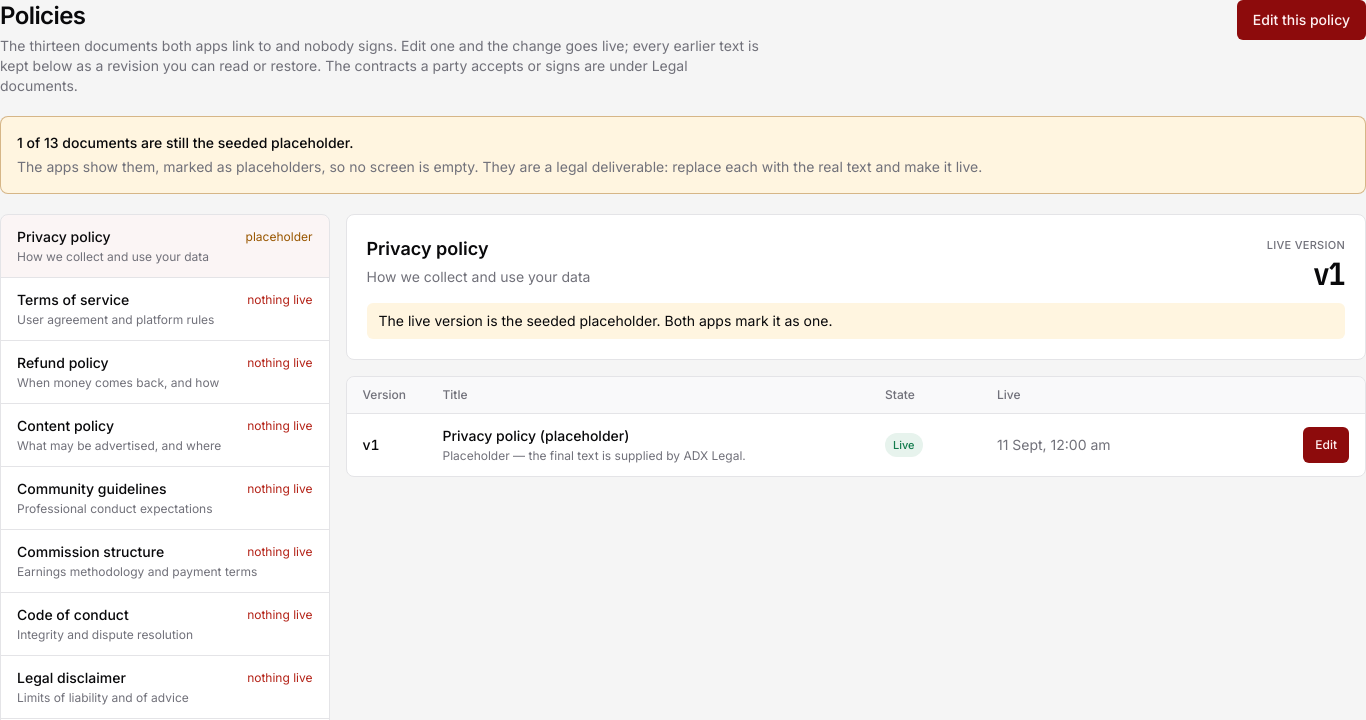
Test: the legal desk › offers the formatting box on the policy text
Click the button with test id "policy-edit" at coordinates (1301, 20), box [1237, 0, 1365, 40]
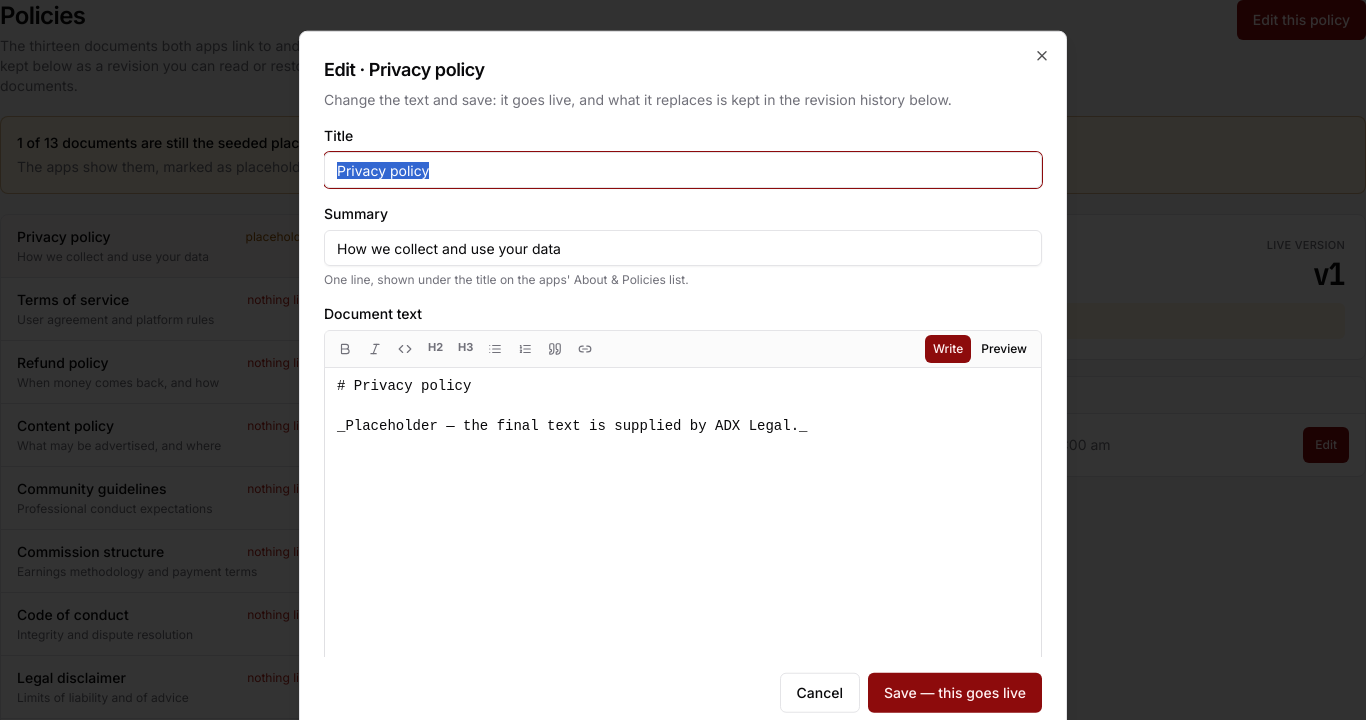
Result: the button with test id "markdown-bold" is shown at [331, 335, 359, 363]
Result: the button with test id "markdown-ul" is shown at [481, 335, 509, 363]
Click the button with test id "markdown-tab-preview" at coordinates (1004, 349), box [973, 335, 1035, 363]
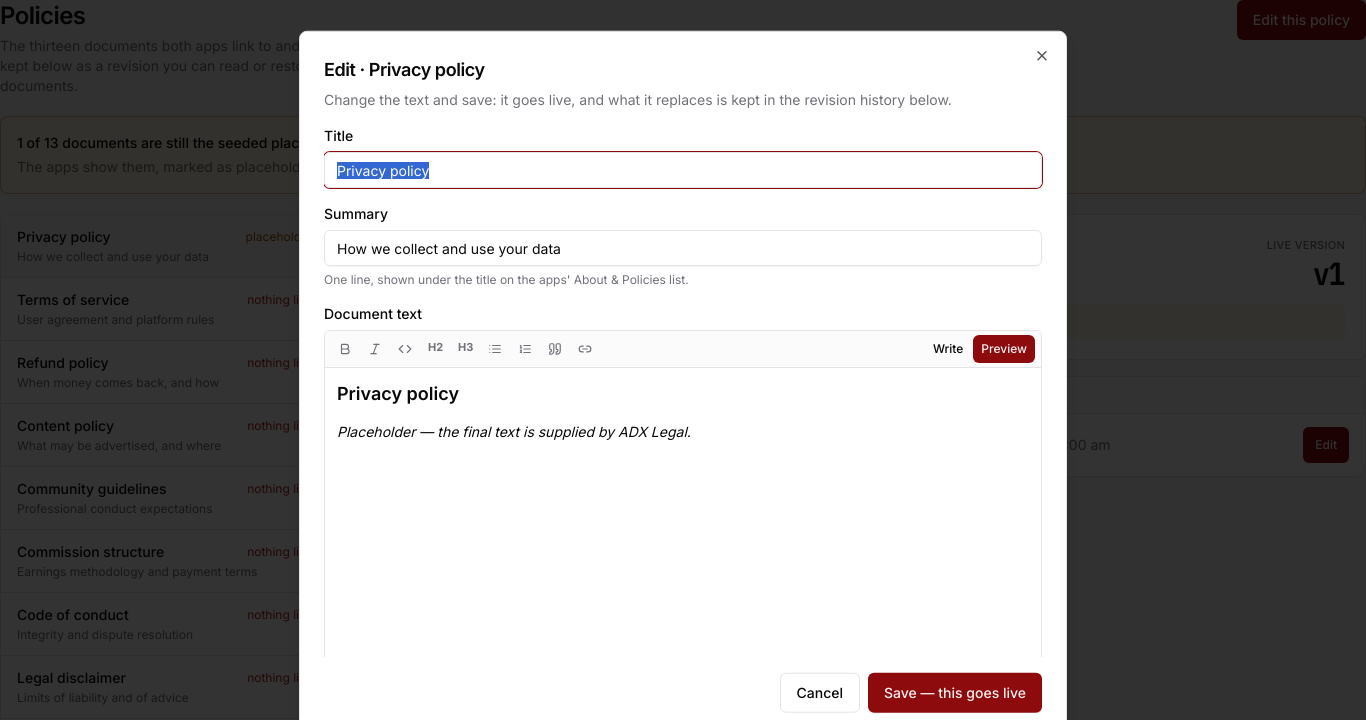
Result: the element with test id "markdown-preview" shows "Privacy policy" at [337, 383, 459, 404]
